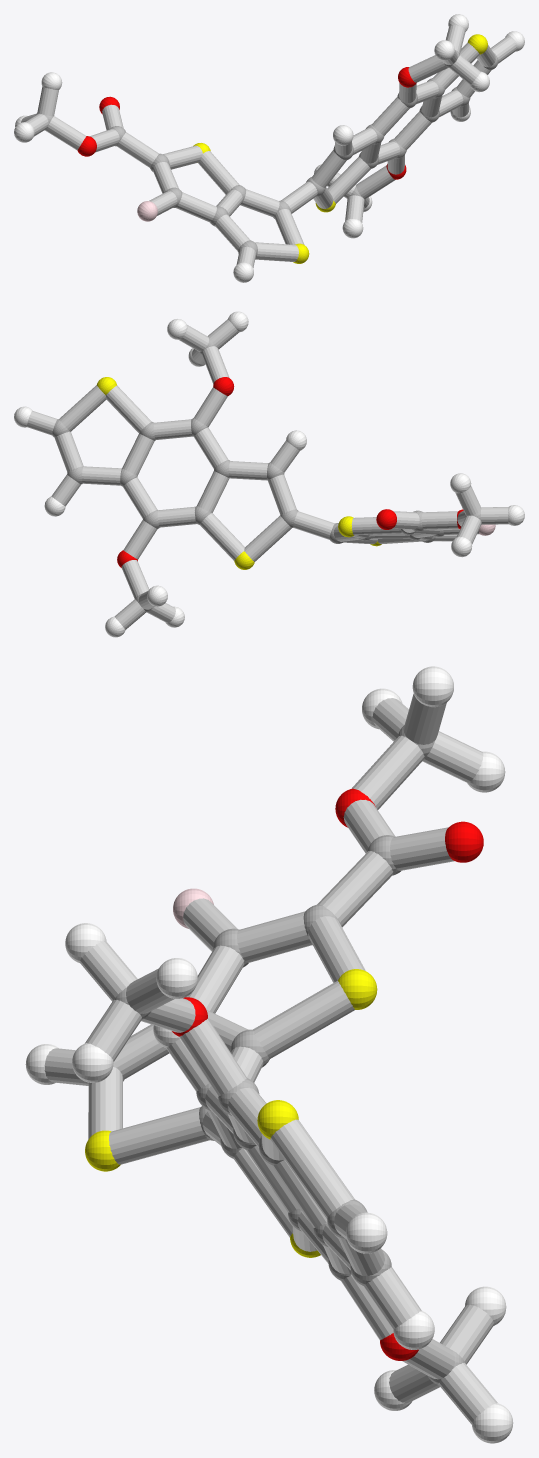
Rendered from Dimethoxy_Benzodithiophene_Phi_20_Theta_270_Methylcarbonyl_3_Fluoro_Thienothiophene.glb.
The picture shows the model from 3 angles, top to bottom: view 1: azimuth 30°, elevation 25°; view 2: azimuth 150°, elevation 25°; view 3: azimuth 270°, elevation 25°; orthographic projection. The views are drawn at different scales.
Visible parts, largest first — view 1: grp15205, grp8689, grp1, grp13395, grp7241, grp14843; view 2: grp15205, grp8689, grp1, grp13395, grp7241; view 3: grp15205, grp8689, grp1, grp7241, grp13395.
Boxes of the visible parts, <box> form: grp15205: <box>21,25,516,267</box>; grp8689: <box>14,14,524,282</box>; grp1: <box>35,50,498,256</box>; grp13395: <box>77,67,416,179</box>; grp7241: <box>193,34,487,263</box>; grp14843: <box>137,201,157,221</box>; grp15205: <box>27,319,508,629</box>; grp8689: <box>14,311,524,637</box>; grp1: <box>52,339,481,611</box>; grp13395: <box>117,377,463,567</box>; grp7241: <box>97,377,381,569</box>; grp15205: <box>44,694,497,1424</box>; grp8689: <box>25,666,513,1443</box>; grp1: <box>113,725,464,1384</box>; grp7241: <box>85,969,377,1257</box>; grp13395: <box>172,788,483,1360</box>.
Bounding box in the file's own units: 16.84 × 7.97 × 7.05.
